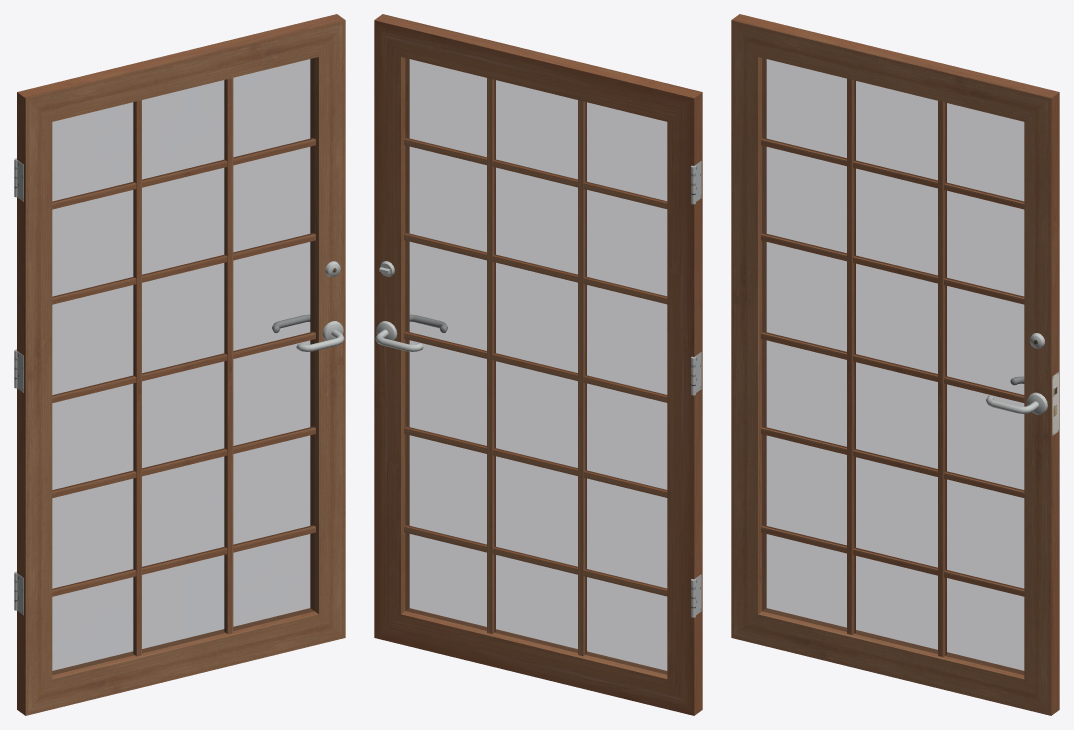
Rendered from SM_Door_05.glb.
3 views of the same model, side by side, from view 1: azimuth 30°, elevation 25°; view 2: azimuth 150°, elevation 25°; view 3: azimuth 330°, elevation 25° (orthographic).
Visible parts, largest first — view 1: SM_Door_05; view 2: SM_Door_05; view 3: SM_Door_05.
Boxes of the visible parts, bbox=[...] form: SM_Door_05: bbox=[14, 14, 345, 715]; SM_Door_05: bbox=[374, 14, 702, 715]; SM_Door_05: bbox=[731, 14, 1059, 715].
Bounding box in the file's own units: 1.31 × 2.4 × 0.2505.
2 materials, 2 textured.
